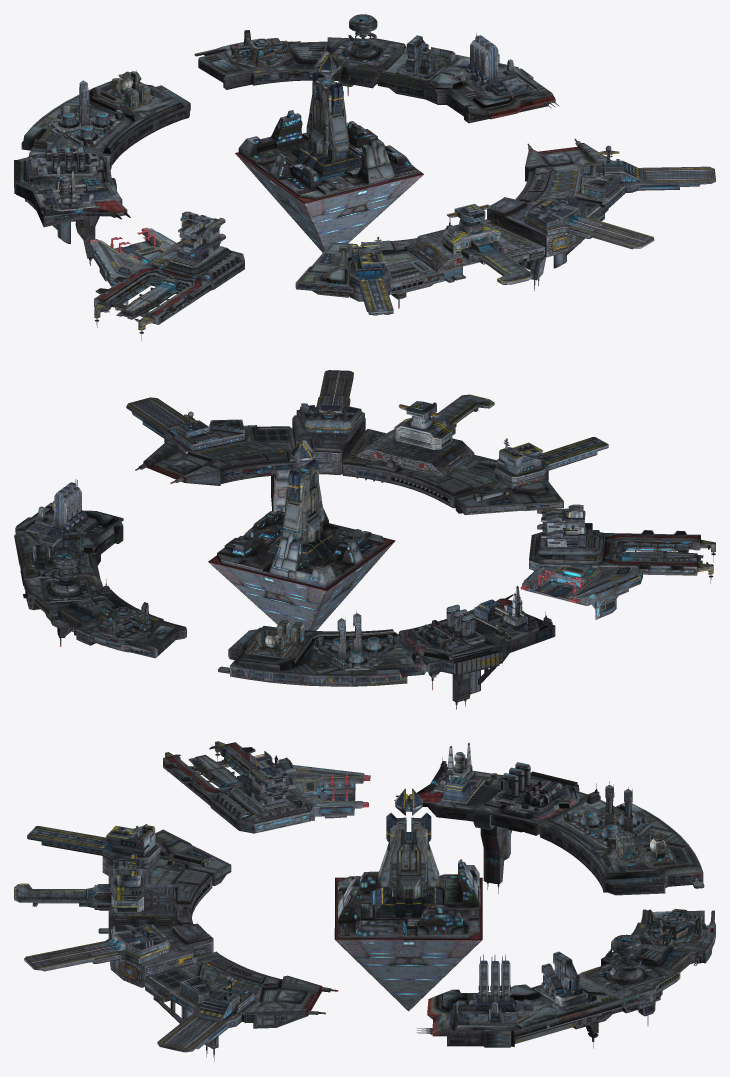
The model's file is threejs.obj.
The picture shows the model from 3 angles, top to bottom: view 1: azimuth 30°, elevation 25°; view 2: azimuth 150°, elevation 25°; view 3: azimuth 270°, elevation 25°; orthographic projection. The views are drawn at different scales.
Visible parts, largest first — view 1: JZ2021_jz_l_1, JZ2030_jz_l_1, JZ2016_jz_l_1, JZ2031_jz_l_1, JZ2042_jz_l_1, JZ2026_jz_l_1, JZ2022_jz_l_3, JZ2028_jz_l_1, JZ2027_jz_l_1, JZ2025_jz_l_1, JZ2029_jz_l_1, JZ2010_jz_l_3 (+13 smaller); view 2: JZ2021_jz_l_1, JZ2016_jz_l_1, JZ2030_jz_l_1, JZ2031_jz_l_1, JZ2042_jz_l_1, JZ2025_jz_l_1, JZ2026_jz_l_1, JZ2022_jz_l_3, JZ2028_jz_l_1, JZ2029_jz_l_1, JZ2027_jz_l_1, JZ2012_jz_l_1 (+14 smaller); view 3: JZ2021_jz_l_1, JZ2030_jz_l_1, JZ2016_jz_l_1, JZ2031_jz_l_1, JZ2042_jz_l_1, JZ2026_jz_l_1, JZ2027_jz_l_1, JZ2028_jz_l_1, JZ2029_jz_l_1, JZ2025_jz_l_1, JZ2022_jz_l_1, JZ2022_jz_l_3 (+17 smaller).
Part boxes in pixels (x1,y1,x2,y2): JZ2021_jz_l_1: (14, 37, 559, 265); JZ2030_jz_l_1: (235, 110, 423, 252); JZ2016_jz_l_1: (295, 138, 611, 308); JZ2031_jz_l_1: (94, 242, 244, 341); JZ2042_jz_l_1: (349, 197, 587, 301); JZ2026_jz_l_1: (574, 145, 715, 207); JZ2022_jz_l_3: (291, 71, 362, 176); JZ2028_jz_l_1: (443, 204, 533, 284); JZ2027_jz_l_1: (524, 194, 654, 249); JZ2025_jz_l_1: (89, 227, 176, 305); JZ2029_jz_l_1: (349, 237, 393, 315); JZ2010_jz_l_3: (454, 33, 528, 99); JZ2021_jz_l_1: (14, 502, 555, 709); JZ2016_jz_l_1: (135, 425, 563, 514); JZ2030_jz_l_1: (208, 508, 395, 630); JZ2031_jz_l_1: (529, 530, 715, 583); JZ2042_jz_l_1: (292, 415, 548, 488); JZ2025_jz_l_1: (520, 565, 642, 619); JZ2026_jz_l_1: (126, 397, 251, 453); JZ2022_jz_l_3: (267, 459, 339, 563); JZ2028_jz_l_1: (394, 394, 494, 449); JZ2029_jz_l_1: (495, 437, 608, 483); JZ2027_jz_l_1: (296, 370, 364, 433); JZ2012_jz_l_1: (40, 551, 94, 602); JZ2021_jz_l_1: (394, 757, 715, 1048); JZ2030_jz_l_1: (334, 859, 482, 1011); JZ2016_jz_l_1: (98, 829, 338, 1061); JZ2031_jz_l_1: (163, 741, 314, 833); JZ2042_jz_l_1: (102, 853, 213, 987); JZ2026_jz_l_1: (157, 975, 260, 1052); JZ2027_jz_l_1: (24, 923, 170, 971); JZ2028_jz_l_1: (14, 854, 144, 912); JZ2029_jz_l_1: (27, 824, 160, 864); JZ2025_jz_l_1: (277, 763, 370, 820); JZ2022_jz_l_1: (377, 820, 435, 917); JZ2022_jz_l_3: (375, 812, 442, 917).
Size of the model in its own units: 1198 by 394 by 1130.
21 materials, 21 textured.
